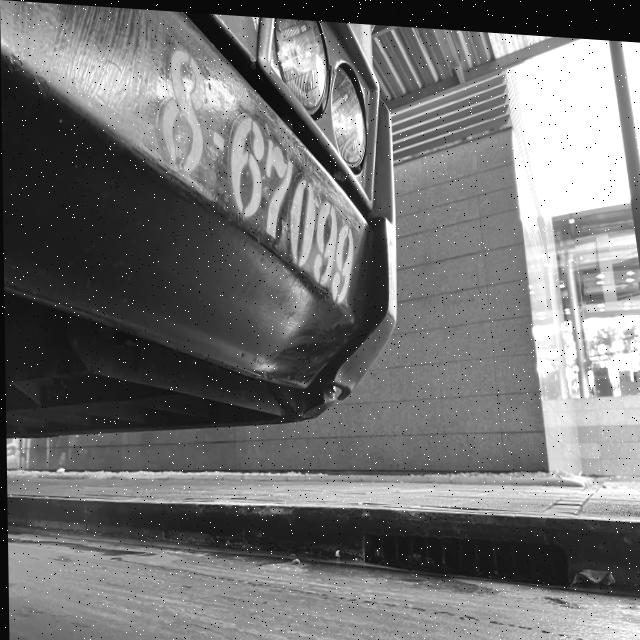BMTA-bus: (0, 0, 400, 443)
Bus Side Number: (151, 17, 365, 324)
